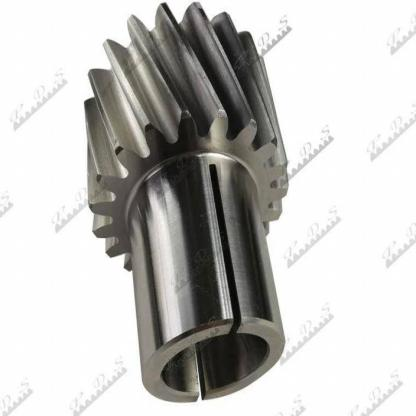FOD: (81, 2, 292, 406)
